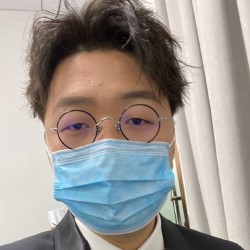mask: (42, 126, 176, 237)
